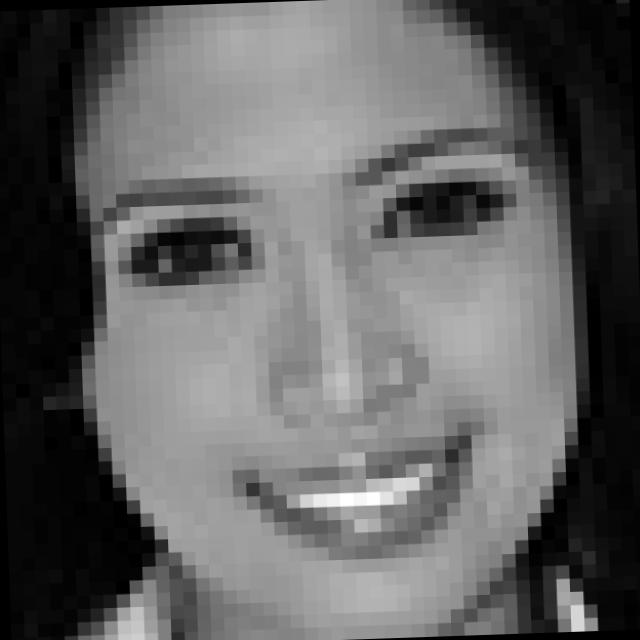happy: (104, 115, 556, 582)
